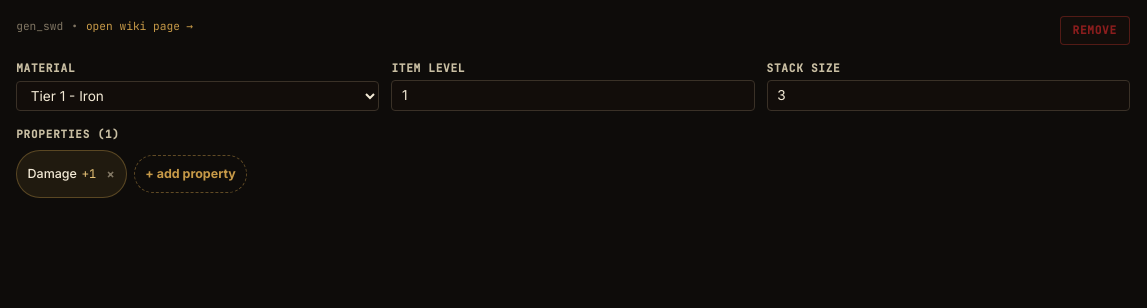
Scenario: ItemEditor › shows add form when + add property is clicked and hides on cancel
The width and height of the screenshot is (1147, 308).
Expected: the field with placeholder "Power" is not shown
Click the button "+ add property".
click(191, 174)  # box [134,155,247,193]
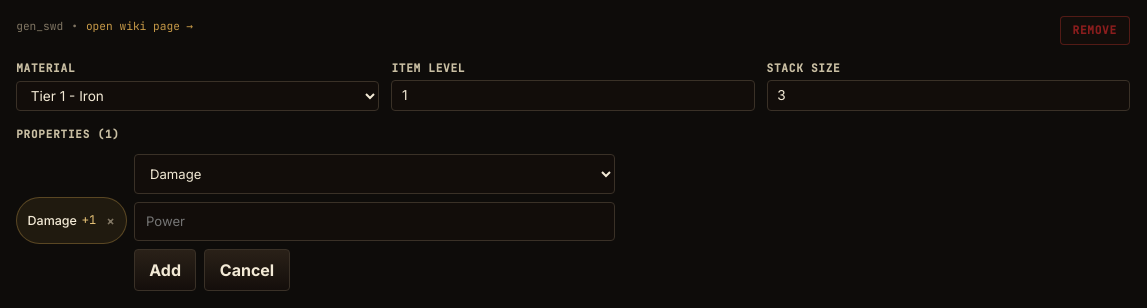
Now the field with placeholder "Power" is shown, box [134,202,615,241]
Click the button "Cancel".
click(247, 270)  # box [204,249,290,291]
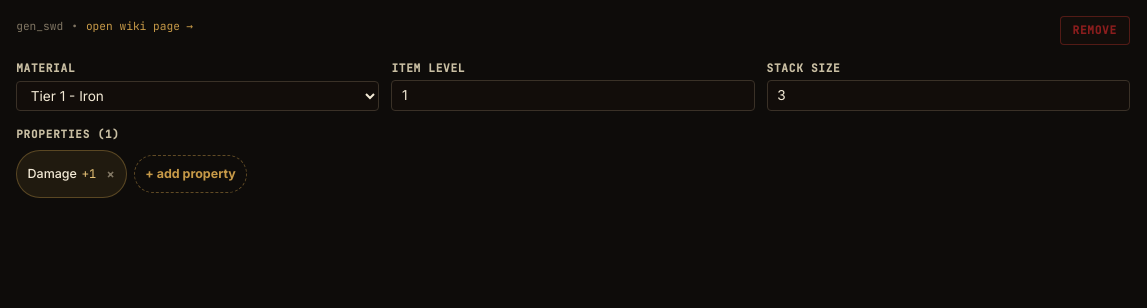
Now the field with placeholder "Power" is gone
